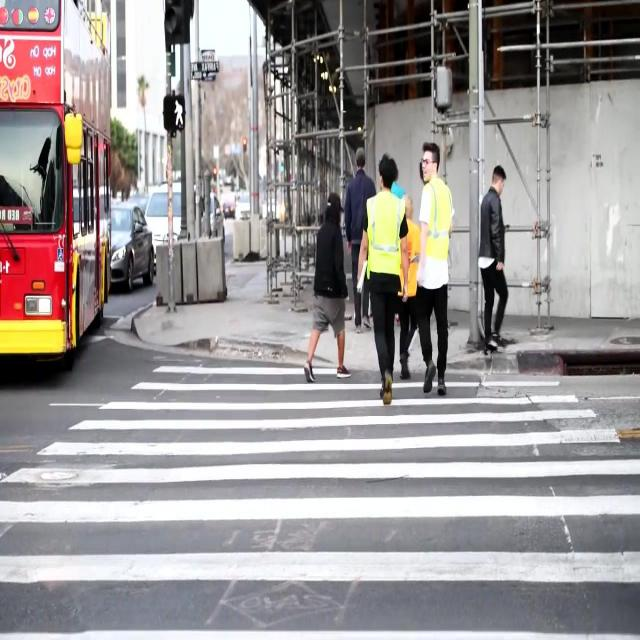Reflective-Jacket: (418, 176, 455, 284), (364, 191, 406, 283)
